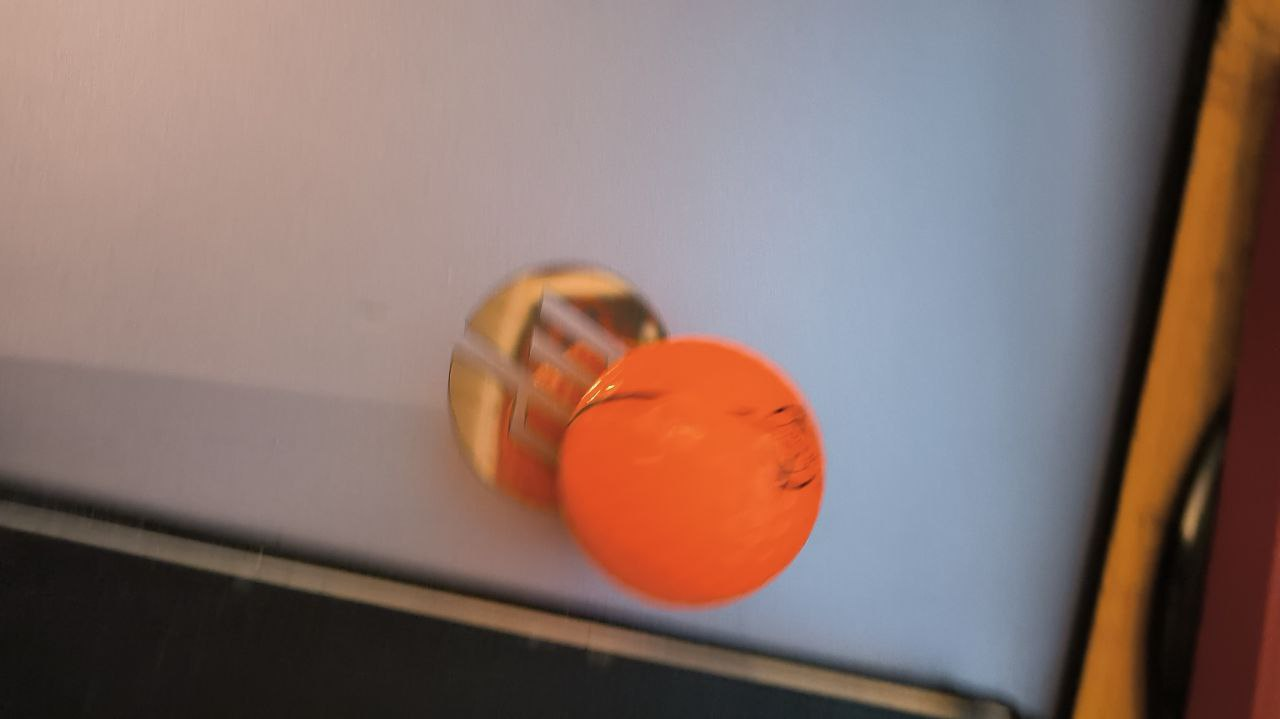orange_ball: (556, 336, 826, 606)
